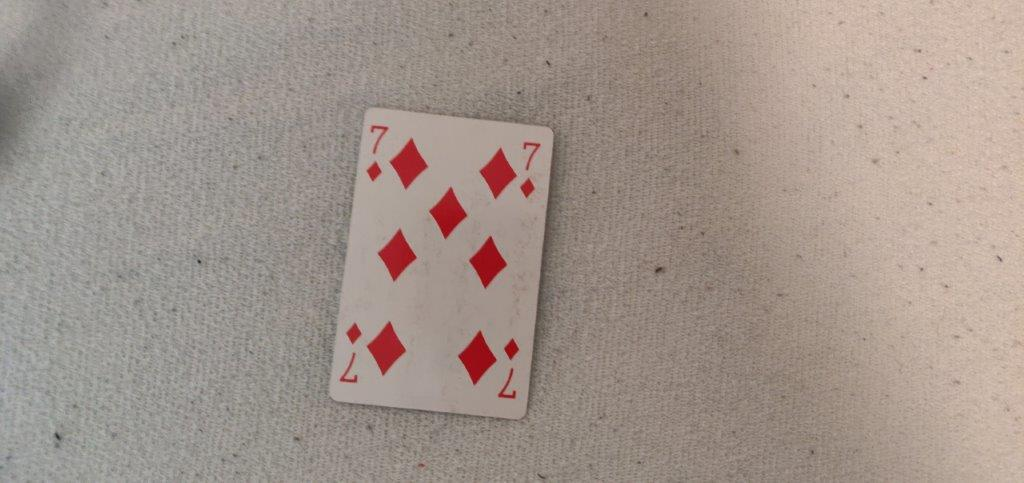7D: (361, 119, 391, 186), (516, 137, 542, 201)
